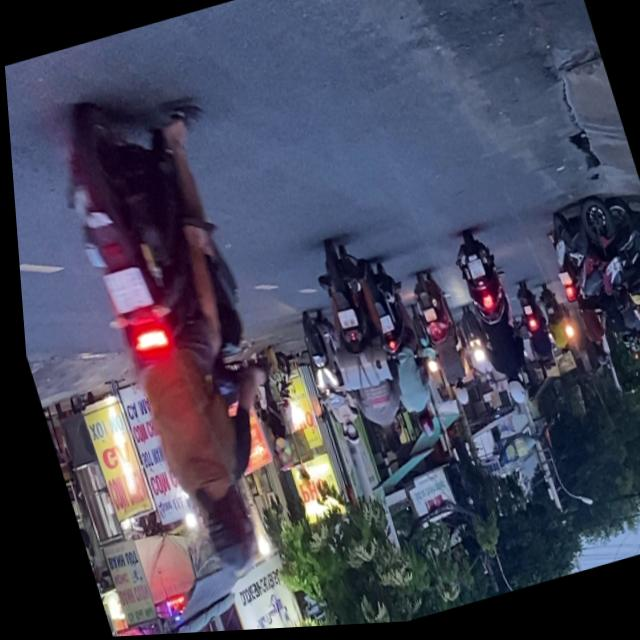helmet: (182, 483, 254, 575), (498, 381, 522, 413), (406, 412, 430, 444), (334, 424, 355, 451)
licenseplate: (35, 71, 316, 595), (298, 236, 412, 470), (442, 229, 535, 418), (353, 258, 440, 449), (288, 308, 361, 457)
motorcyclist: (372, 426, 399, 462)
nohelmet: (97, 266, 148, 317), (331, 311, 353, 333), (462, 263, 481, 285), (372, 318, 388, 337)
